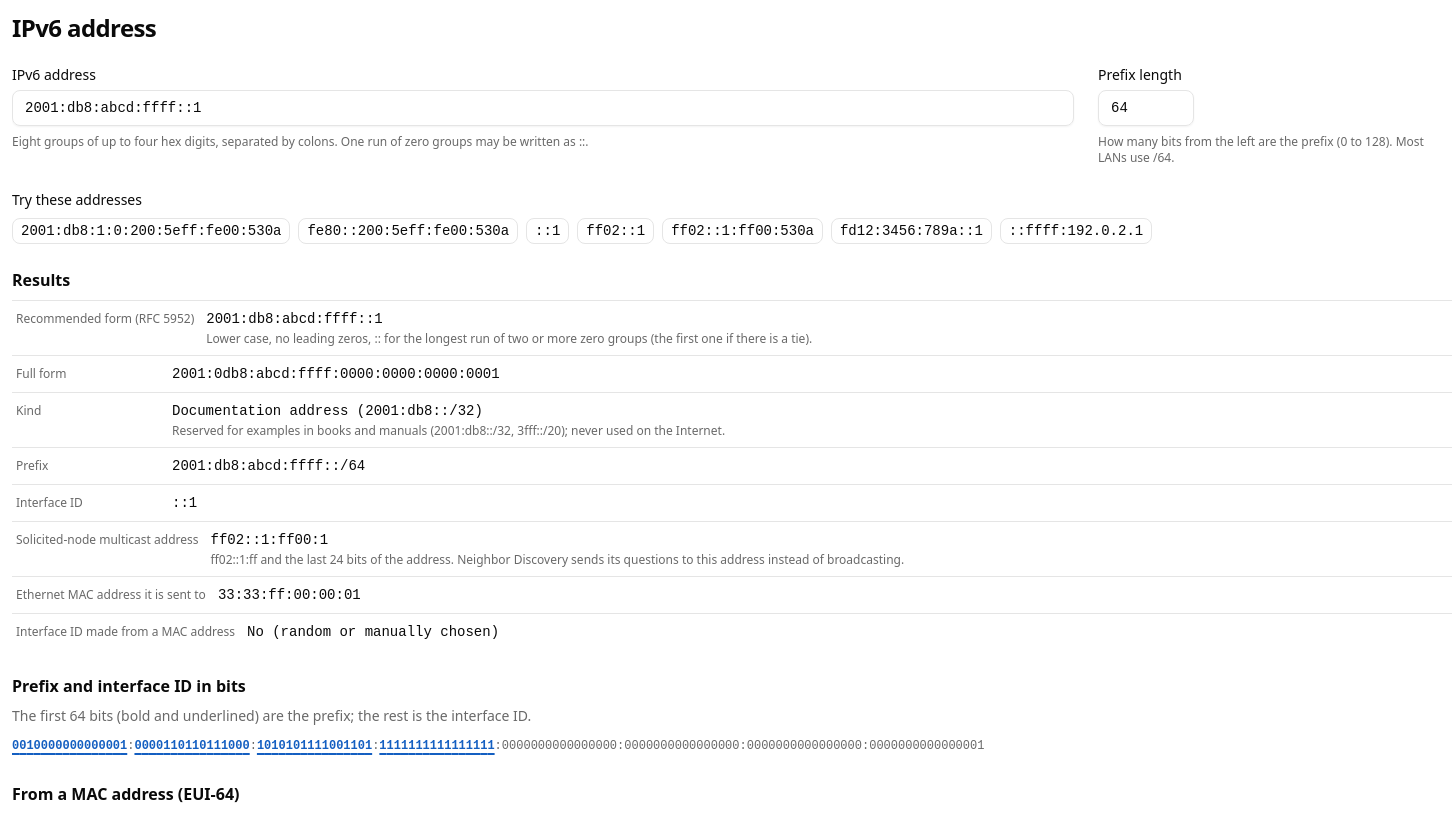
Test: Ipv6Address › プレフィックス長を変えると、プレフィックスとビットの強調が変わる
The width and height of the screenshot is (1452, 819).
Replace the text in the number field labelled "Prefix length" with "56" at (1146, 108), box [1098,90,1194,126]
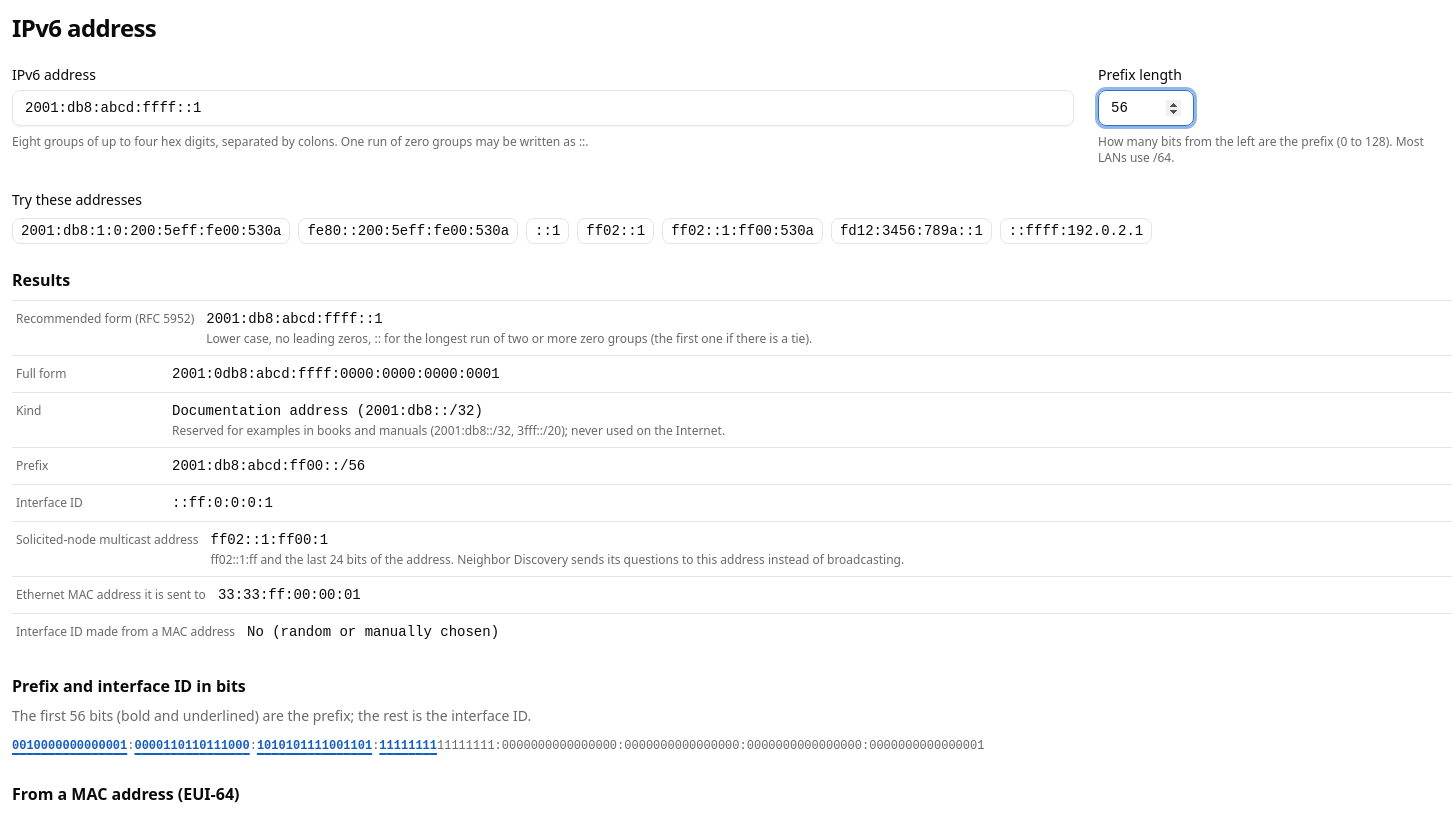
Expected: the text "2001:db8:abcd:ff00::/56" is shown, [172,458,365,474]
